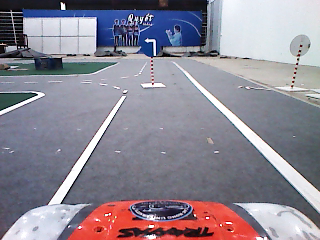turn: (141, 36, 162, 59)
